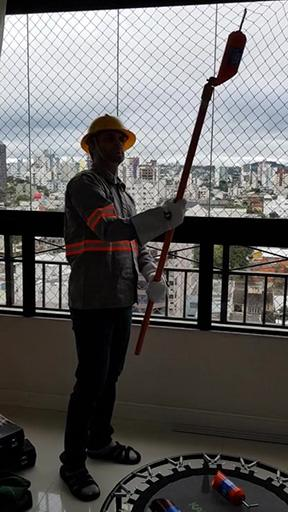Detector_Tensao_Contato: (211, 5, 249, 85)
Vara_Manobra: (134, 84, 213, 355)
